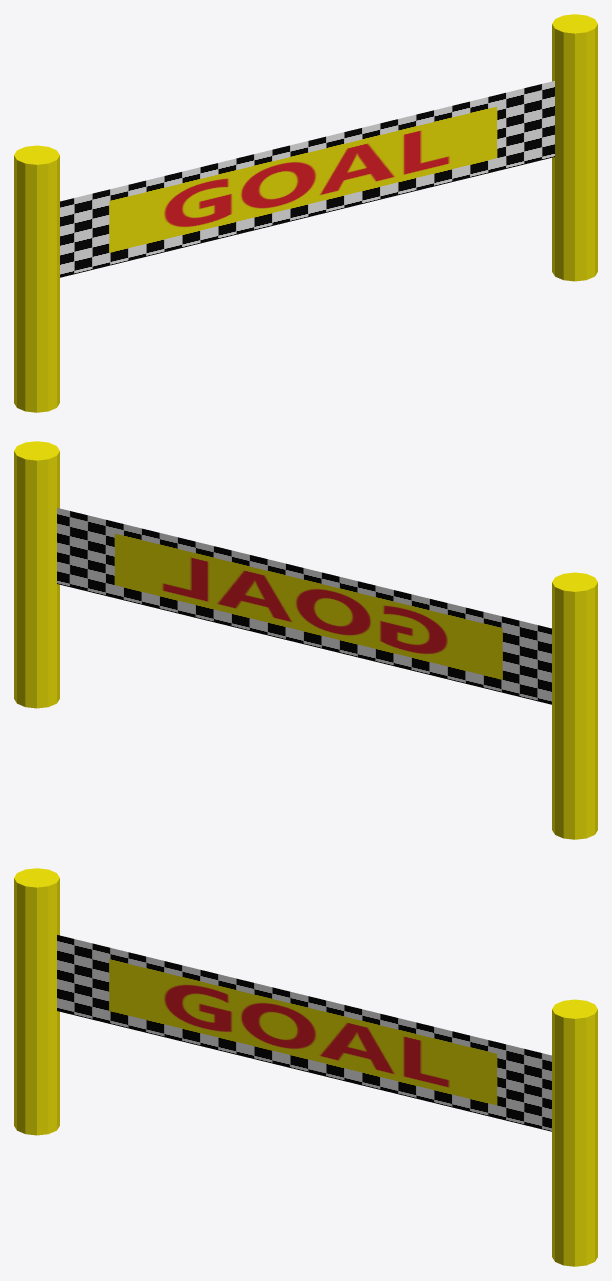
Rendered from goalPoll.fbx.
3 views of the same model, one above another, from view 1: azimuth 30°, elevation 25°; view 2: azimuth 150°, elevation 25°; view 3: azimuth 330°, elevation 25° (orthographic).
Visible parts, largest first — view 1: pPlane1, pCylinder1, pCylinder2; view 2: pPlane1, pCylinder1, pCylinder2; view 3: pPlane1, pCylinder2, pCylinder1.
Part boxes in pixels (x1,y1,x2,y2): pPlane1: (60,81,554,277); pCylinder1: (14,145,59,412); pCylinder2: (552,14,597,281); pPlane1: (57,508,551,704); pCylinder1: (552,572,597,839); pCylinder2: (14,441,59,708); pPlane1: (57,935,551,1131); pCylinder2: (552,999,597,1266); pCylinder1: (14,868,59,1135).
Size of the model in its own units: 21.89 by 8.97 by 1.51.
